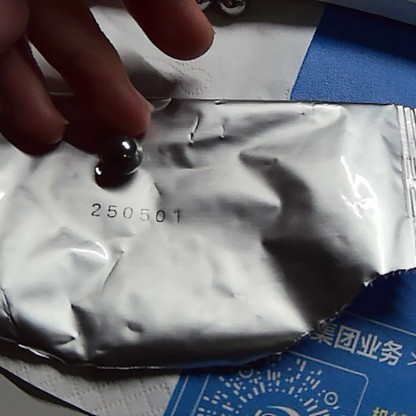ironball: (88, 120, 147, 186)
